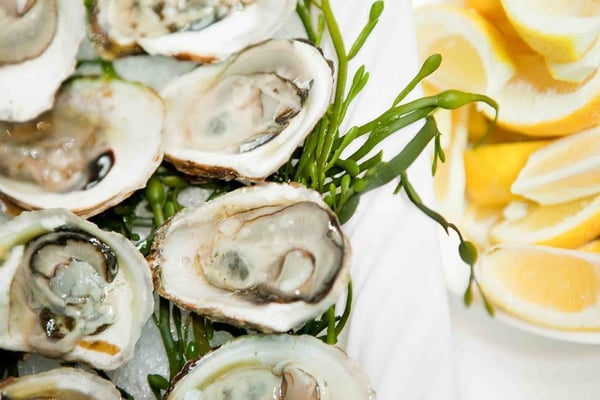taco: (412, 0, 600, 139)
